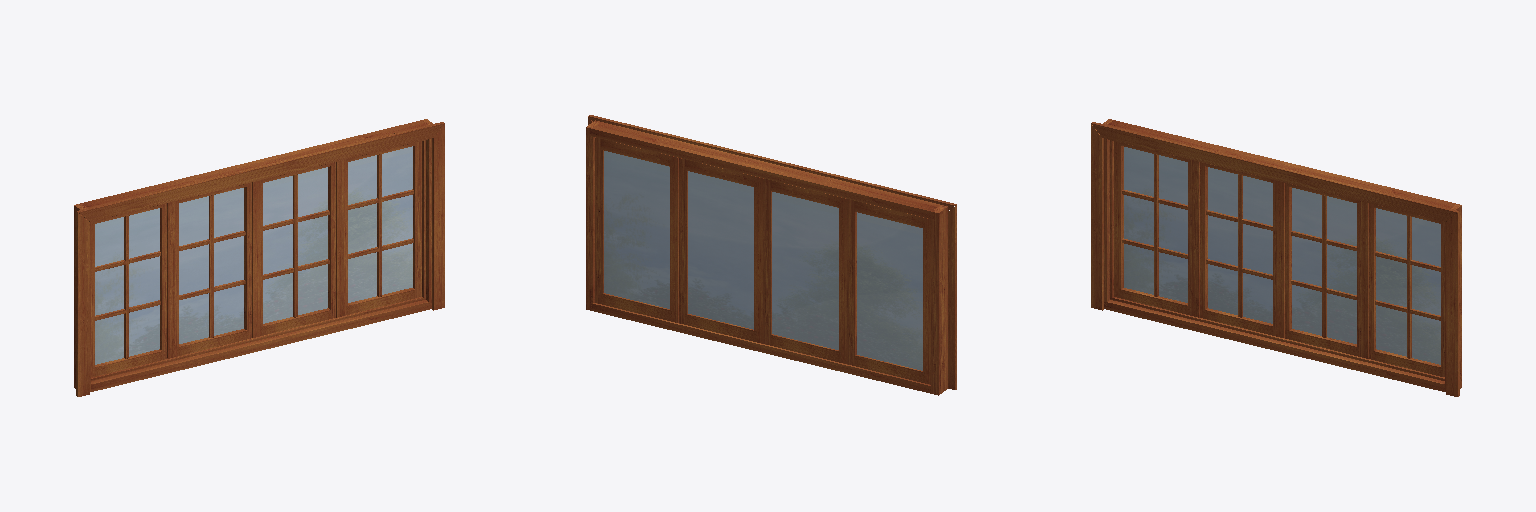
3 views of the same model, side by side, from view 1: azimuth 30°, elevation 25°; view 2: azimuth 150°, elevation 25°; view 3: azimuth 330°, elevation 25° (orthographic).
Visible parts, largest first — view 1: glass004, glass001, glass002, glass003, trim_top, box_bottom, trim_left, box_top, trim_right, window_right003, stop_bottom, astragal002 (+19 smaller); view 2: glass002, glass003, glass001, glass004, box_top, box_left, box_bottom, trim_top, box_right, trim_left, window_right, window_right001 (+14 smaller); view 3: glass004, glass002, glass003, glass001, trim_top, box_bottom, trim_right, box_top, trim_left, window_left, astragal002, stop_bottom (+19 smaller).
Boxes of the visible parts, x1=… form: glass004: x1=348, y1=146, x2=412, y2=302; glass001: x1=95, y1=208, x2=159, y2=364; glass002: x1=179, y1=188, x2=243, y2=343; glass003: x1=263, y1=167, x2=327, y2=323; trim_top: x1=77, y1=122, x2=444, y2=221; box_bottom: x1=91, y1=300, x2=431, y2=391; trim_left: x1=76, y1=212, x2=89, y2=396; box_top: x1=79, y1=120, x2=427, y2=207; trim_right: x1=432, y1=124, x2=444, y2=310; window_right003: x1=413, y1=141, x2=421, y2=297; stop_bottom: x1=91, y1=297, x2=425, y2=380; astragal002: x1=252, y1=181, x2=259, y2=337; glass002: x1=772, y1=192, x2=838, y2=349; glass003: x1=688, y1=171, x2=753, y2=329; glass001: x1=857, y1=212, x2=922, y2=370; glass004: x1=604, y1=151, x2=669, y2=308; box_top: x1=590, y1=122, x2=939, y2=219; box_left: x1=931, y1=205, x2=947, y2=395; box_bottom: x1=590, y1=303, x2=932, y2=393; trim_top: x1=589, y1=115, x2=956, y2=210; box_right: x1=586, y1=120, x2=601, y2=309; trim_left: x1=948, y1=205, x2=956, y2=389; window_right: x1=847, y1=199, x2=856, y2=365; window_right001: x1=763, y1=178, x2=771, y2=345; glass004: x1=1376, y1=208, x2=1440, y2=364; glass002: x1=1208, y1=167, x2=1272, y2=323; glass003: x1=1292, y1=188, x2=1356, y2=343; glass001: x1=1124, y1=147, x2=1187, y2=302; trim_top: x1=1091, y1=122, x2=1458, y2=221; box_bottom: x1=1104, y1=300, x2=1444, y2=391; trim_right: x1=1446, y1=212, x2=1459, y2=396; box_top: x1=1108, y1=120, x2=1456, y2=208; trim_left: x1=1091, y1=124, x2=1103, y2=310; window_left: x1=1114, y1=141, x2=1123, y2=297; astragal002: x1=1276, y1=181, x2=1284, y2=337; stop_bottom: x1=1110, y1=297, x2=1444, y2=380.
Size of the model in its own units: 78.02 by 37.51 by 4.25.
Materials: 7 (7 with a texture image).